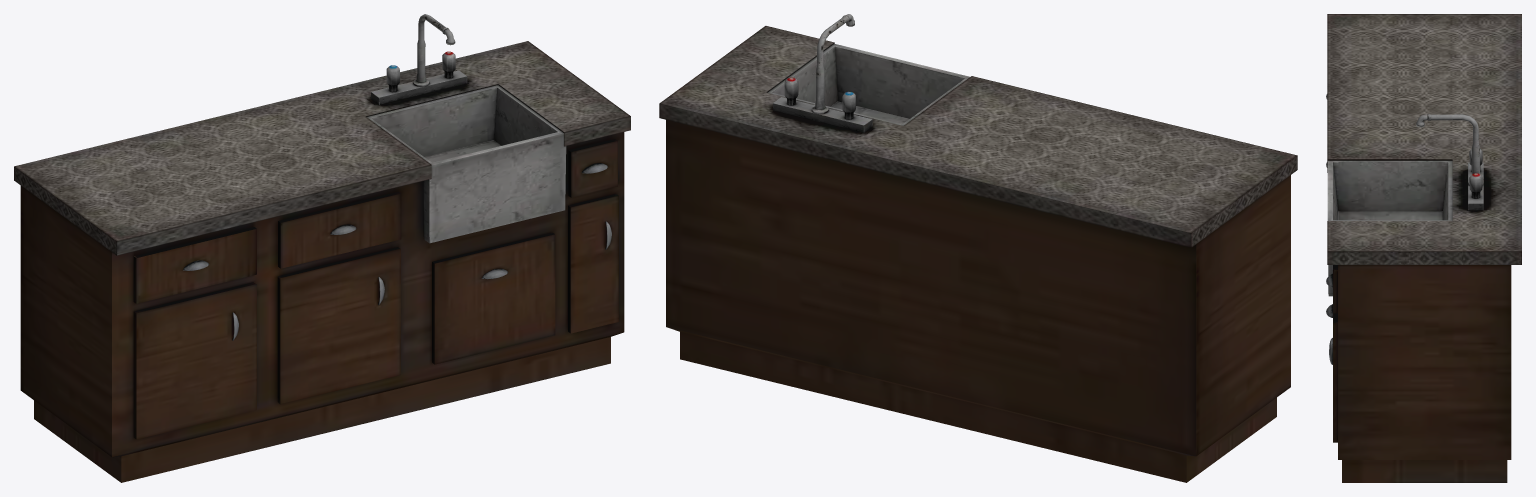
The model's file is kitchen.gltf.
The picture shows the model from 3 angles, left to right: view 1: azimuth 30°, elevation 25°; view 2: azimuth 150°, elevation 25°; view 3: azimuth 270°, elevation 25°; orthographic projection. The views are drawn at different scales.
Parts seen in each view (by area): view 1: body; view 2: body; view 3: body.
Boxes of the visible parts, x1=… form: body: x1=14, y1=14, x2=630, y2=482; body: x1=659, y1=14, x2=1297, y2=482; body: x1=1326, y1=14, x2=1521, y2=482.
Bounding box in the file's own units: 1.7 × 1.05 × 0.5924.
Materials: 6 (6 with a texture image).
